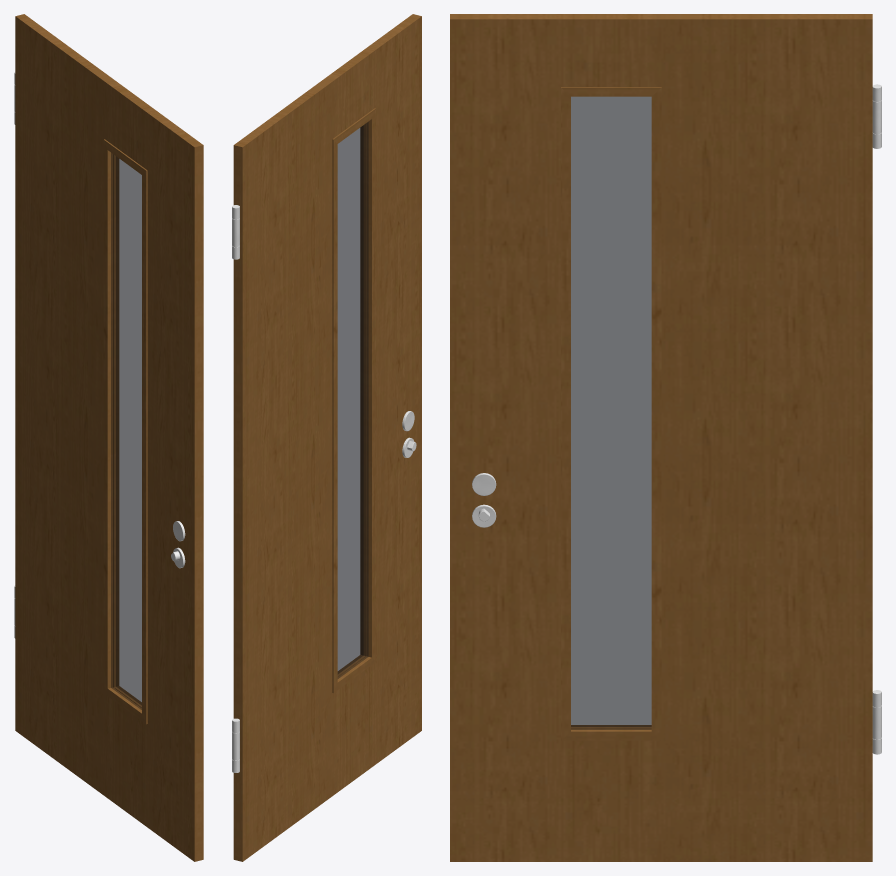
File: DoorPart02.fbx
The picture shows the model from 3 angles, left to right: view 1: azimuth 30°, elevation 25°; view 2: azimuth 150°, elevation 25°; view 3: azimuth 270°, elevation 25°; orthographic projection. The views are drawn at different scales.
Visible parts, largest first — view 1: DoorPart2; view 2: DoorPart2; view 3: DoorPart2.
Boxes of the visible parts, left/top/right/bottom form: DoorPart2: left=14, top=14, right=203, bottom=861; DoorPart2: left=232, top=14, right=421, bottom=861; DoorPart2: left=450, top=14, right=881, bottom=861.
Size of what is drawn, in the model's own units: 7.26 by 101 by 217.
3 materials, 2 textured.
